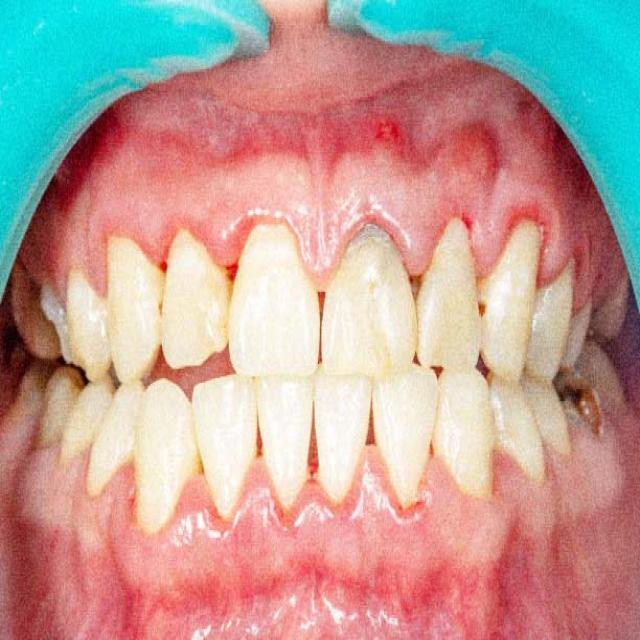caries: (552, 368, 608, 444)
